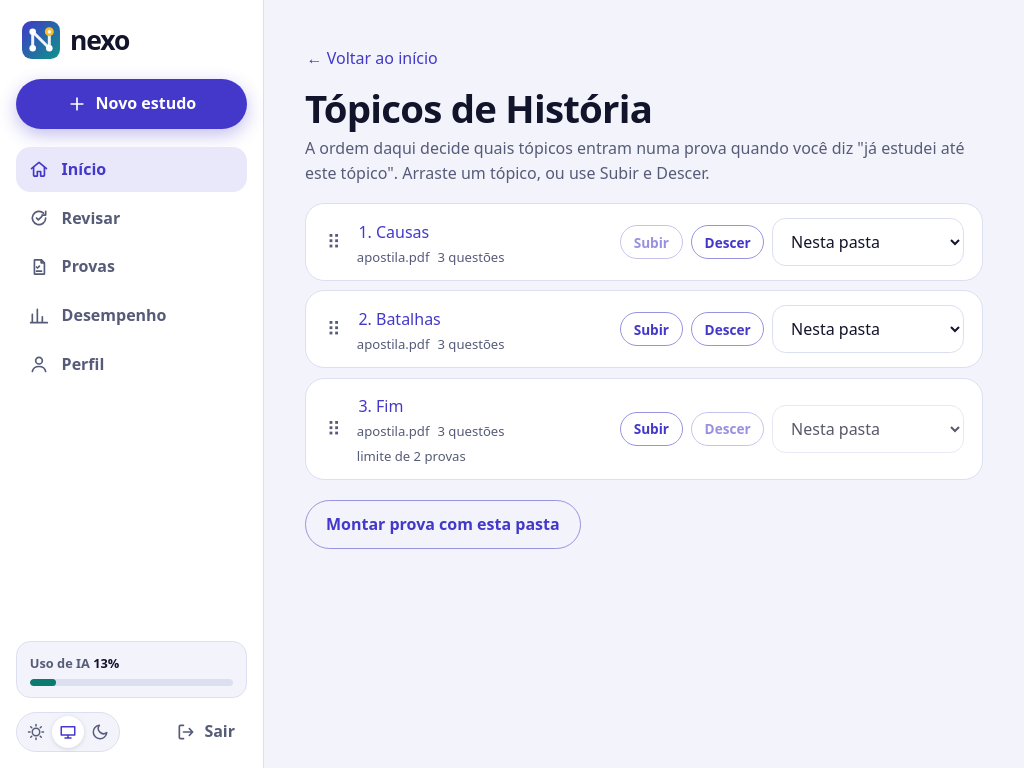
it: mudar um tópico de pasta o tira da lista; o limite de prova não muda
This screenshot has width=1024, height=768.
Check: the heading "Tópicos de História" is shown, box [305, 82, 652, 134]
Check: the text "limite de 2 provas" is shown, box [357, 446, 466, 466]
Select "Mover para Geral" in the 1st dropdown named "Mover Causas para a pasta" at x=868, y=242, box [772, 218, 964, 266]
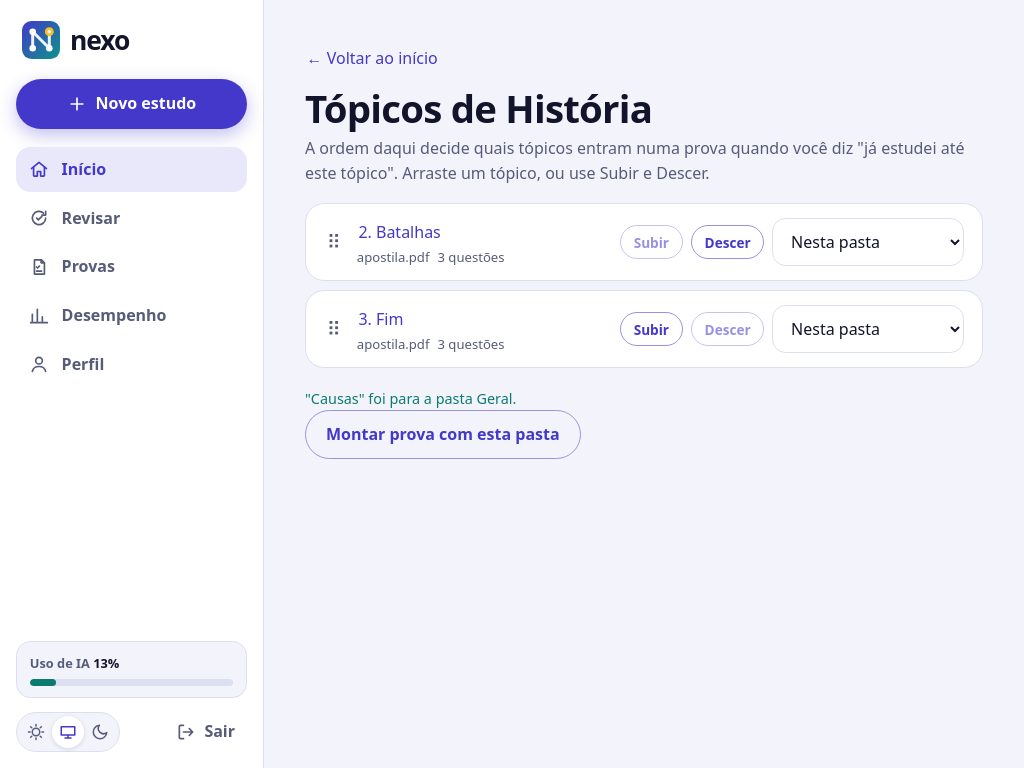
Check: the text "\"Causas\" foi para a pasta Geral." is shown, box [305, 389, 516, 408]
